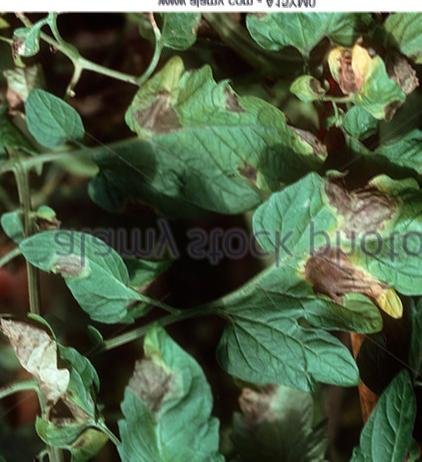Tomato leaf late blight: (211, 164, 422, 390), (85, 64, 331, 219), (0, 319, 113, 449), (15, 215, 143, 326), (291, 35, 415, 139)
